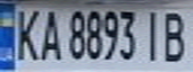3: (118, 7, 142, 62)
8: (63, 6, 87, 61), (84, 6, 106, 61)
9: (103, 6, 121, 61)
A: (36, 6, 63, 62)
B: (157, 7, 193, 63)
I: (139, 7, 169, 62)
K: (9, 4, 45, 63)
